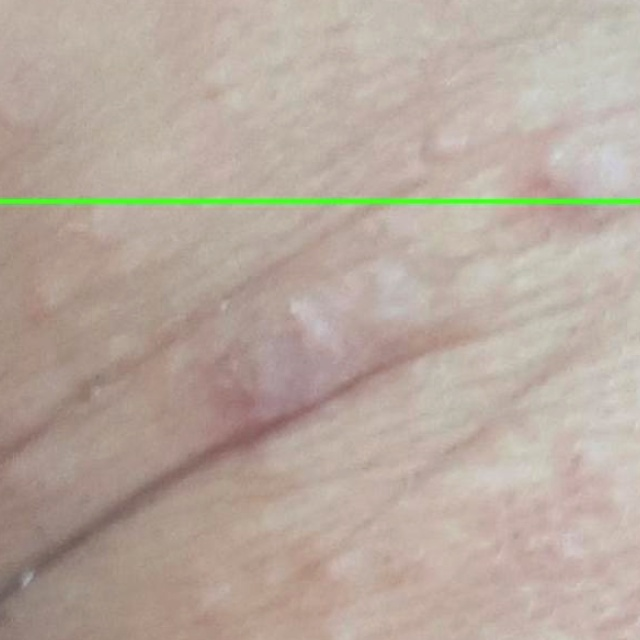Scabies: (0, 201, 639, 639)
